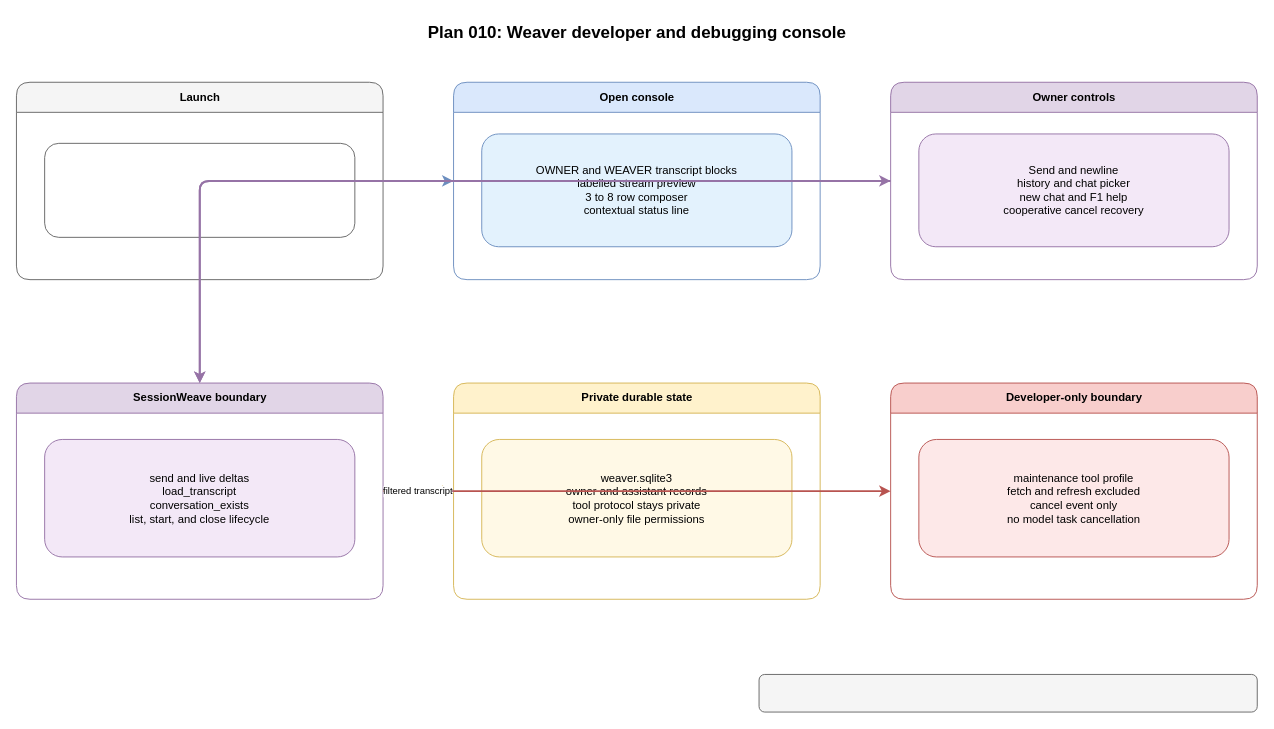
The diagram is 1274 pixels wide and 729 high, and some of its shapes have lost their labels. The centre of each missing label's shape, as x and y in pixels:
"Blue: console | Purple: runtime | Yellow: state | Red: hard boundary" goes at point (1007, 693).
"weaver chat [--fake] startup config and mode one async event loop" goes at point (199, 189).
